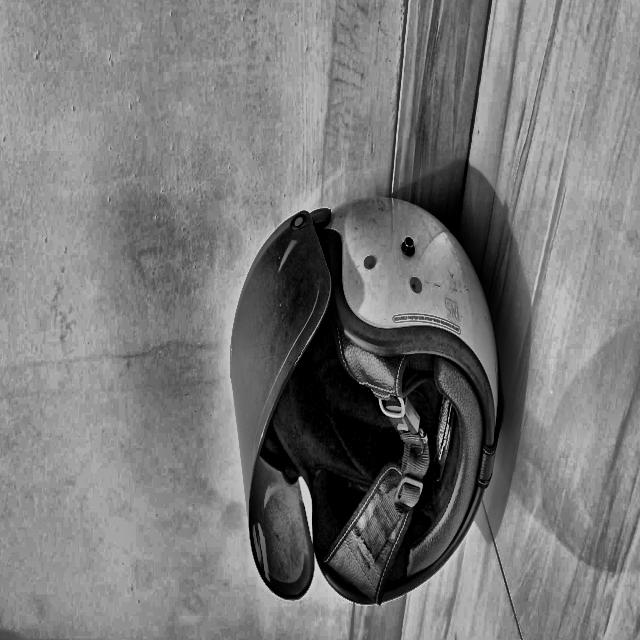Helmet: (6, 362, 261, 640)
